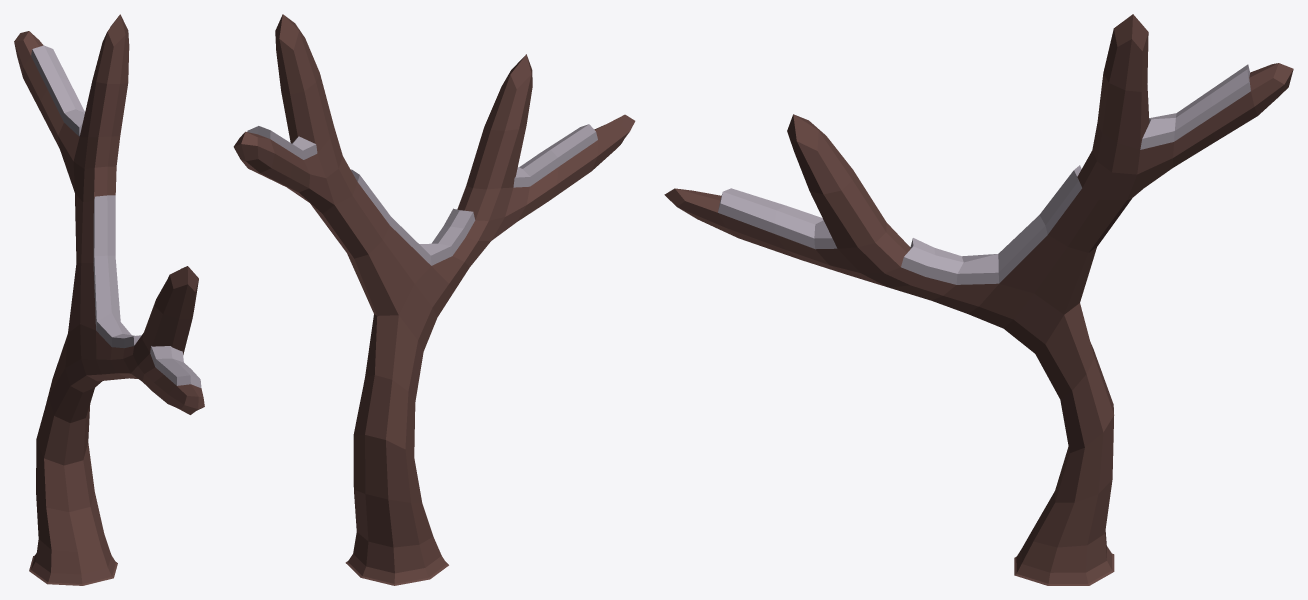
The model's file is Willow_Dead_Snow_5.gltf.
3 views of the same model, side by side, from view 1: azimuth 30°, elevation 25°; view 2: azimuth 150°, elevation 25°; view 3: azimuth 270°, elevation 25° (orthographic). The views are drawn at different scales.
Parts seen in each view (by area): view 1: Willow_Dead_Snow_5; view 2: Willow_Dead_Snow_5; view 3: Willow_Dead_Snow_5.
Part boxes in pixels (x1=…): Willow_Dead_Snow_5: x1=14, y1=14, x2=204, y2=585; Willow_Dead_Snow_5: x1=233, y1=14, x2=635, y2=585; Willow_Dead_Snow_5: x1=664, y1=14, x2=1293, y2=585.
Size of the model in its own units: 0.567 by 2.04 by 1.95.
